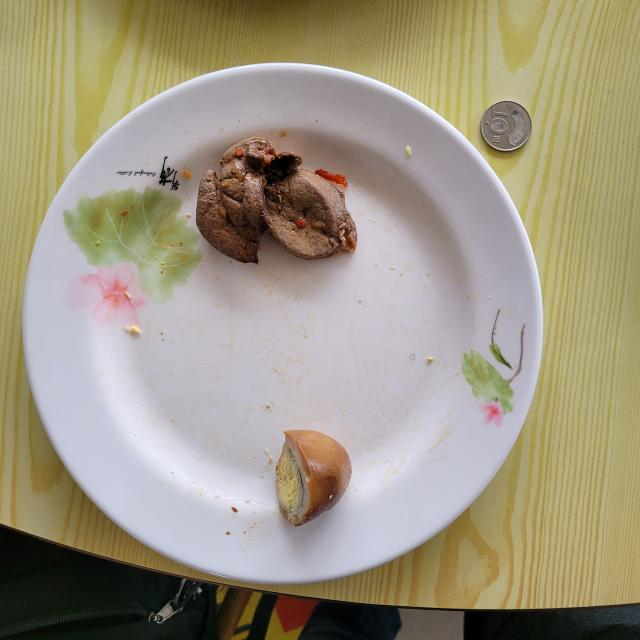coin: (481, 101, 531, 151)
pig liver: (196, 138, 358, 262)
soy egg: (276, 430, 351, 526)
